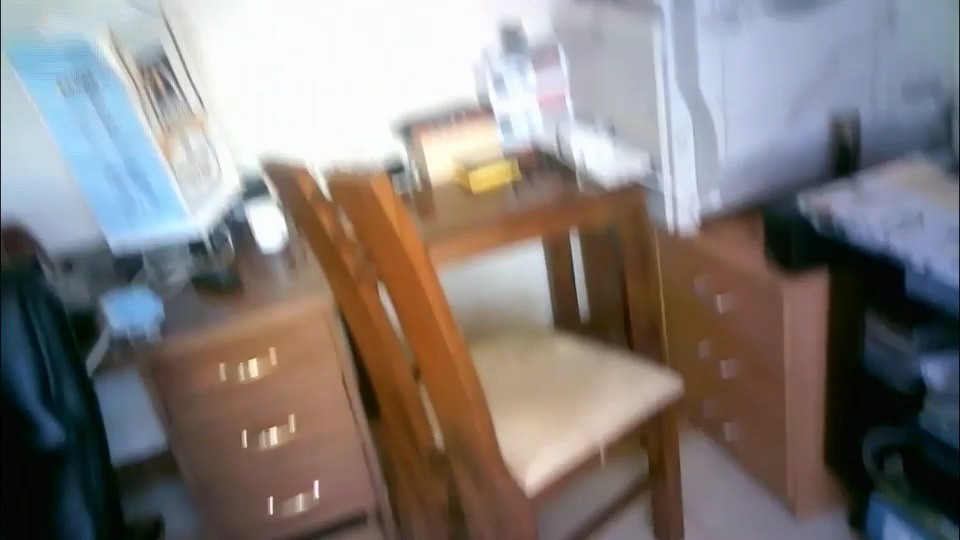wheat_flour_blue_label: (2, 2, 240, 248)
